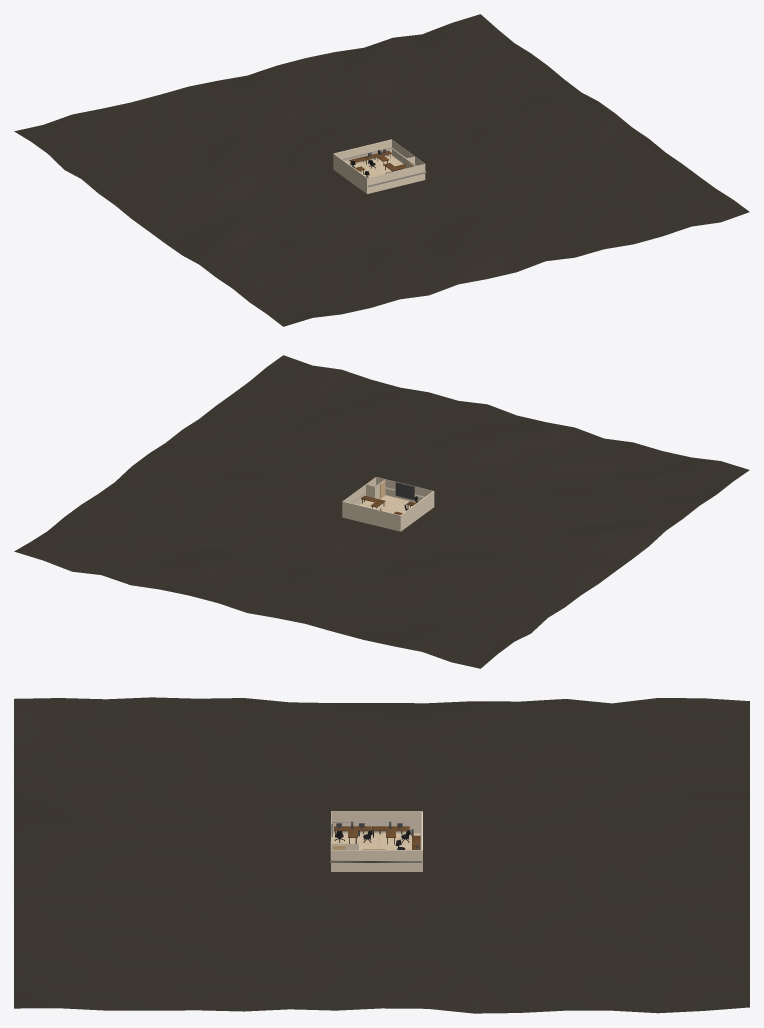
The model's file is roomba_room_modified_02.obj.
3 renders of one model, top to bottom at view 1: azimuth 30°, elevation 25°; view 2: azimuth 150°, elevation 25°; view 3: azimuth 270°, elevation 25°, orthographic. The views are drawn at different scales.
Bounding box in the file's own units: 2048 × 83.13 × 2048.
Materials: 9 (1 with a texture image).
